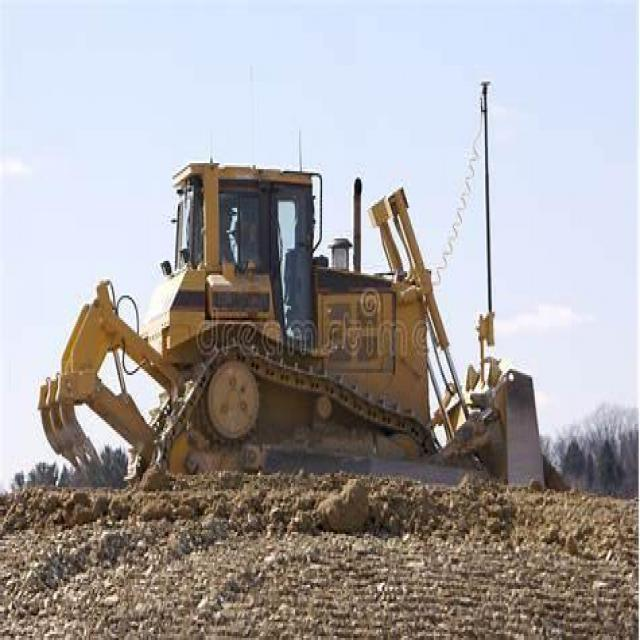Bulldozer: (27, 132, 578, 585)
